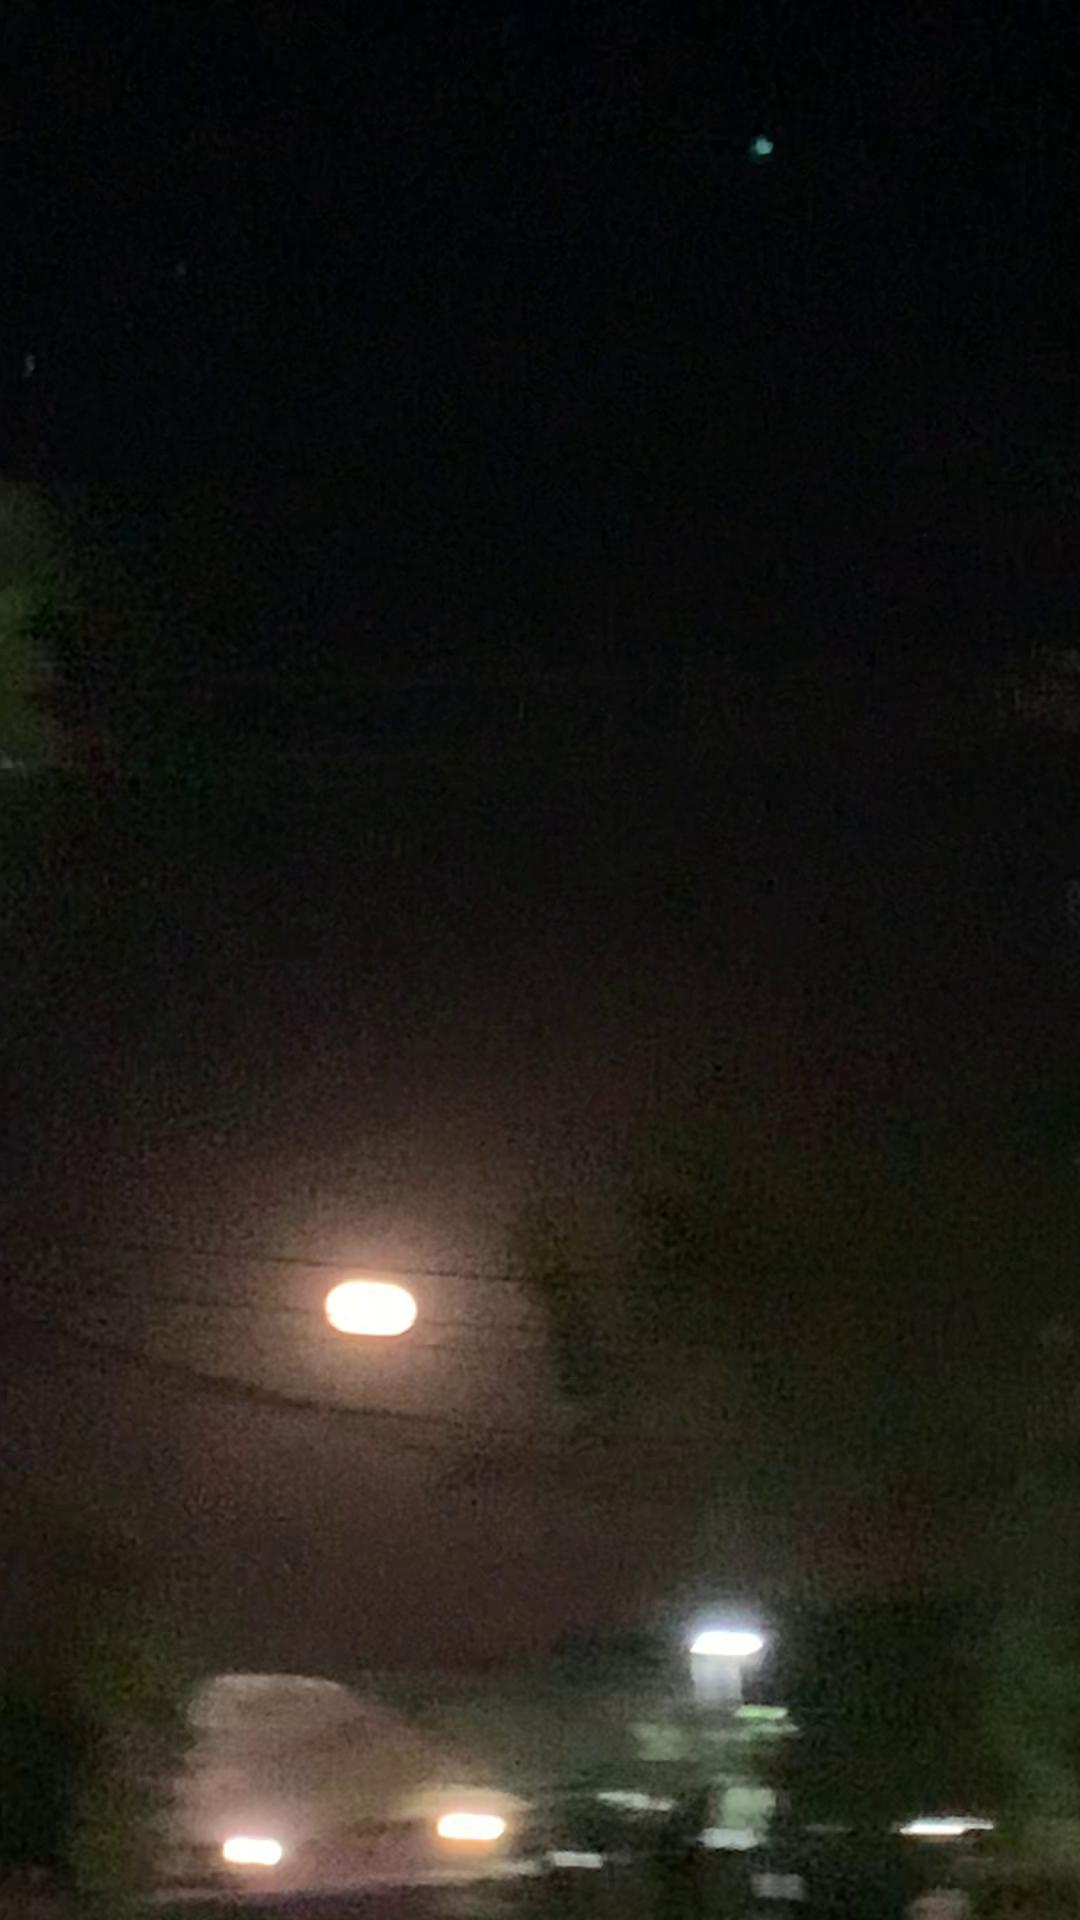moon: (324, 1250, 423, 1332)
